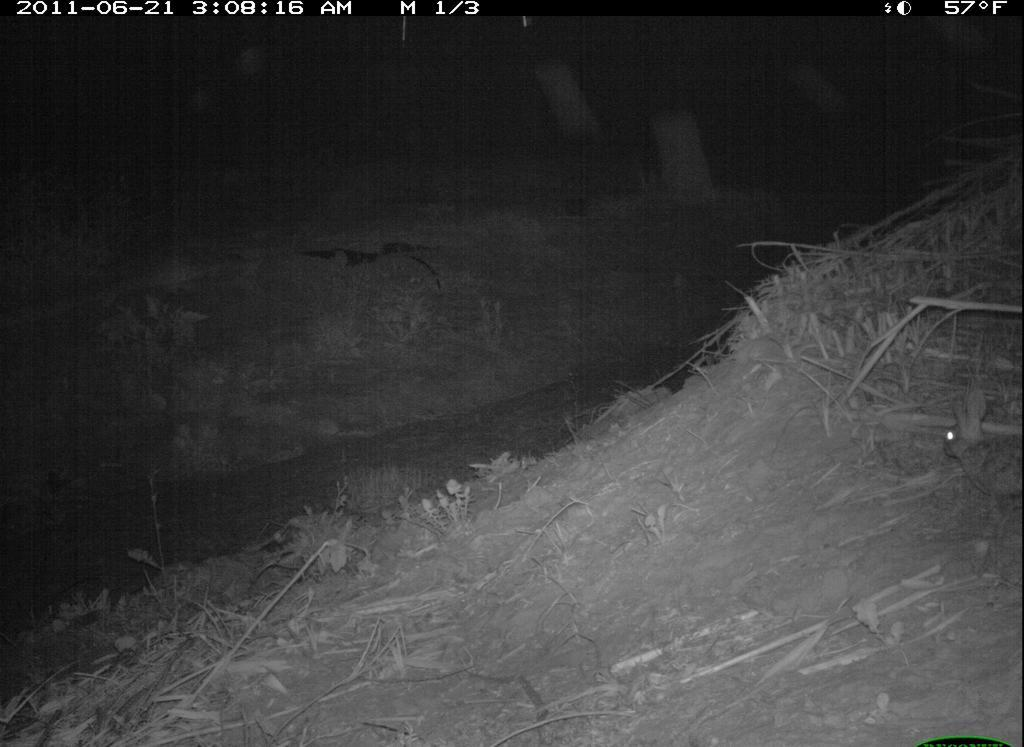rabbit: (935, 387, 1014, 514)
